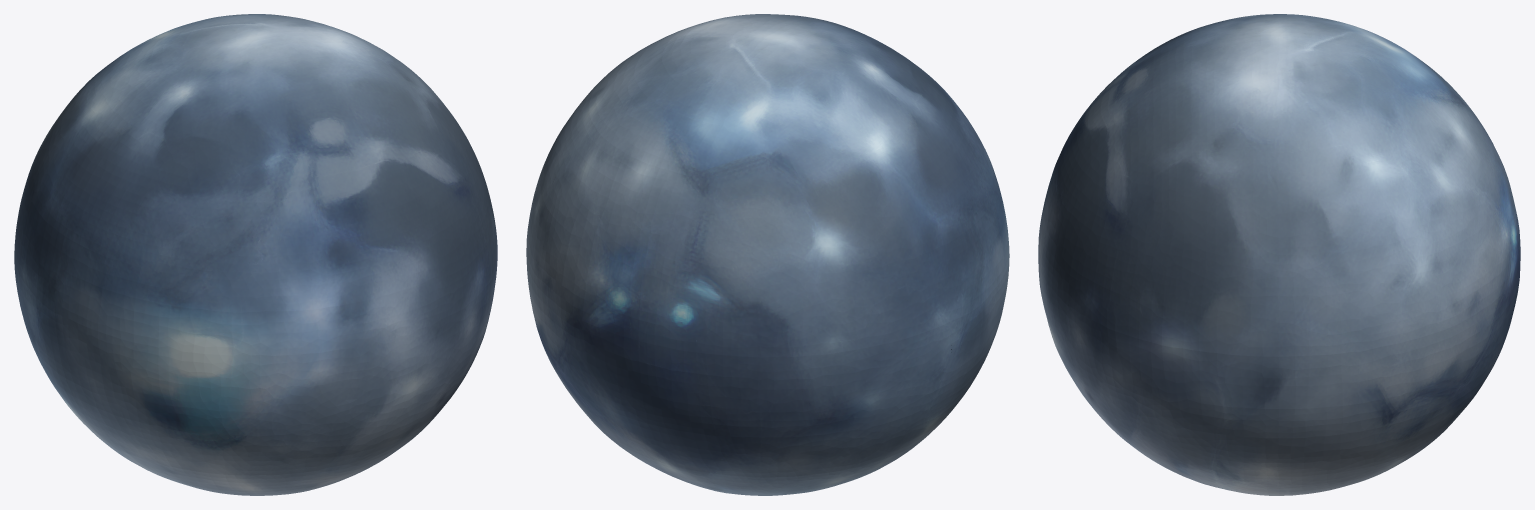
File: sample (24).glb
The picture shows the model from 3 angles, left to right: view 1: azimuth 30°, elevation 25°; view 2: azimuth 150°, elevation 25°; view 3: azimuth 270°, elevation 25°; orthographic projection.
Parts seen in each view (by area): view 1: world; view 2: world; view 3: world.
Part boxes in pixels (left/top/right/bottom): world: left=14, top=14, right=497, bottom=495; world: left=526, top=14, right=1009, bottom=495; world: left=1038, top=14, right=1520, bottom=495.
Bounding box in the file's own units: 0.9707 × 0.9728 × 0.9719.
Materials: 1 (1 with a texture image).
